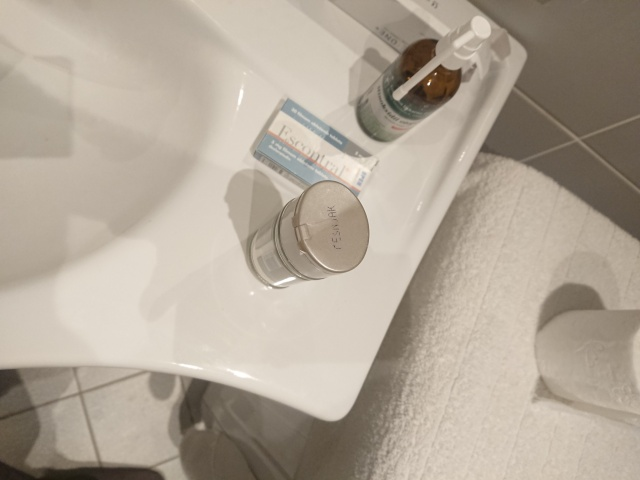Kotanyi Garlic Granules 70g: (245, 177, 372, 292)
